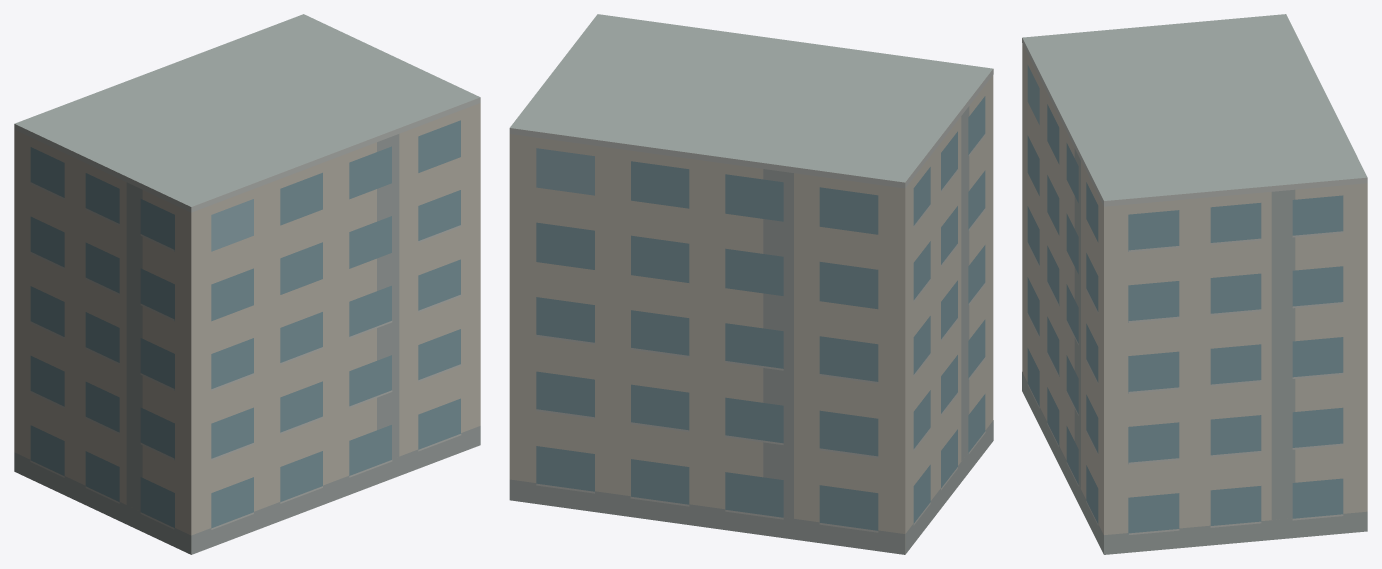
Rendered from residential-c348f12a-22cd-4f10-be5a-1956be8f0897.glb.
3 renders of one model, left to right at view 1: azimuth 30°, elevation 25°; view 2: azimuth 150°, elevation 25°; view 3: azimuth 270°, elevation 25°, orthographic. The views are drawn at different scales.
Parts seen in each view (by area): view 1: residential-c348f12a-22cd-4f10-be5a-1956be8f0897.tmp; view 2: residential-c348f12a-22cd-4f10-be5a-1956be8f0897.tmp; view 3: residential-c348f12a-22cd-4f10-be5a-1956be8f0897.tmp.
Boxes of the visible parts, x1,y1,x2,y2 form: residential-c348f12a-22cd-4f10-be5a-1956be8f0897.tmp: [14, 14, 480, 554]; residential-c348f12a-22cd-4f10-be5a-1956be8f0897.tmp: [509, 14, 993, 554]; residential-c348f12a-22cd-4f10-be5a-1956be8f0897.tmp: [1022, 14, 1367, 554].
Bounding box in the file's own units: 17.3 × 15.25 × 13.5.
